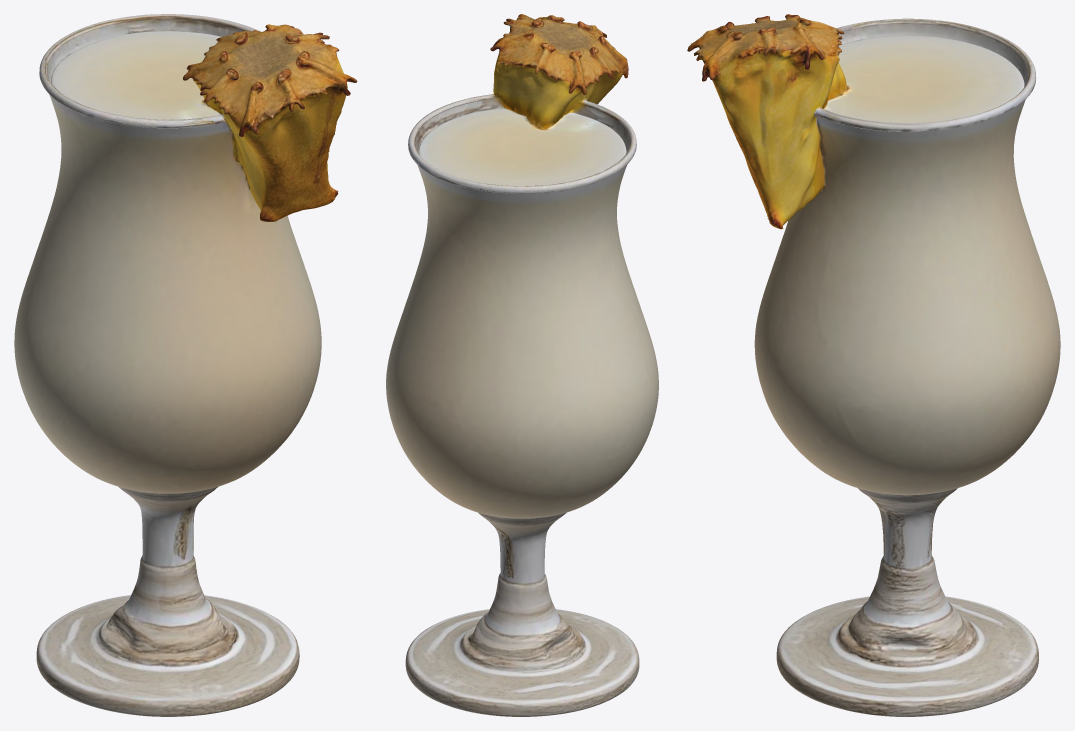
File: modelo-05.glb
3 views of the same model, side by side, from view 1: azimuth 30°, elevation 25°; view 2: azimuth 150°, elevation 25°; view 3: azimuth 270°, elevation 25° (orthographic). The views are drawn at different scales.
Parts seen in each view (by area): view 1: tripo_node_86e1c420-8e6c-4416-a359-9f51e64ded82; view 2: tripo_node_86e1c420-8e6c-4416-a359-9f51e64ded82; view 3: tripo_node_86e1c420-8e6c-4416-a359-9f51e64ded82.
Part boxes in pixels (box(x1,y1,x2,y2)): tripo_node_86e1c420-8e6c-4416-a359-9f51e64ded82: box(14, 14, 357, 716); tripo_node_86e1c420-8e6c-4416-a359-9f51e64ded82: box(386, 14, 658, 716); tripo_node_86e1c420-8e6c-4416-a359-9f51e64ded82: box(687, 14, 1060, 716).
Size of the model in its own units: 0.4087 by 0.9804 by 0.4995.
1 material, 1 textured.
